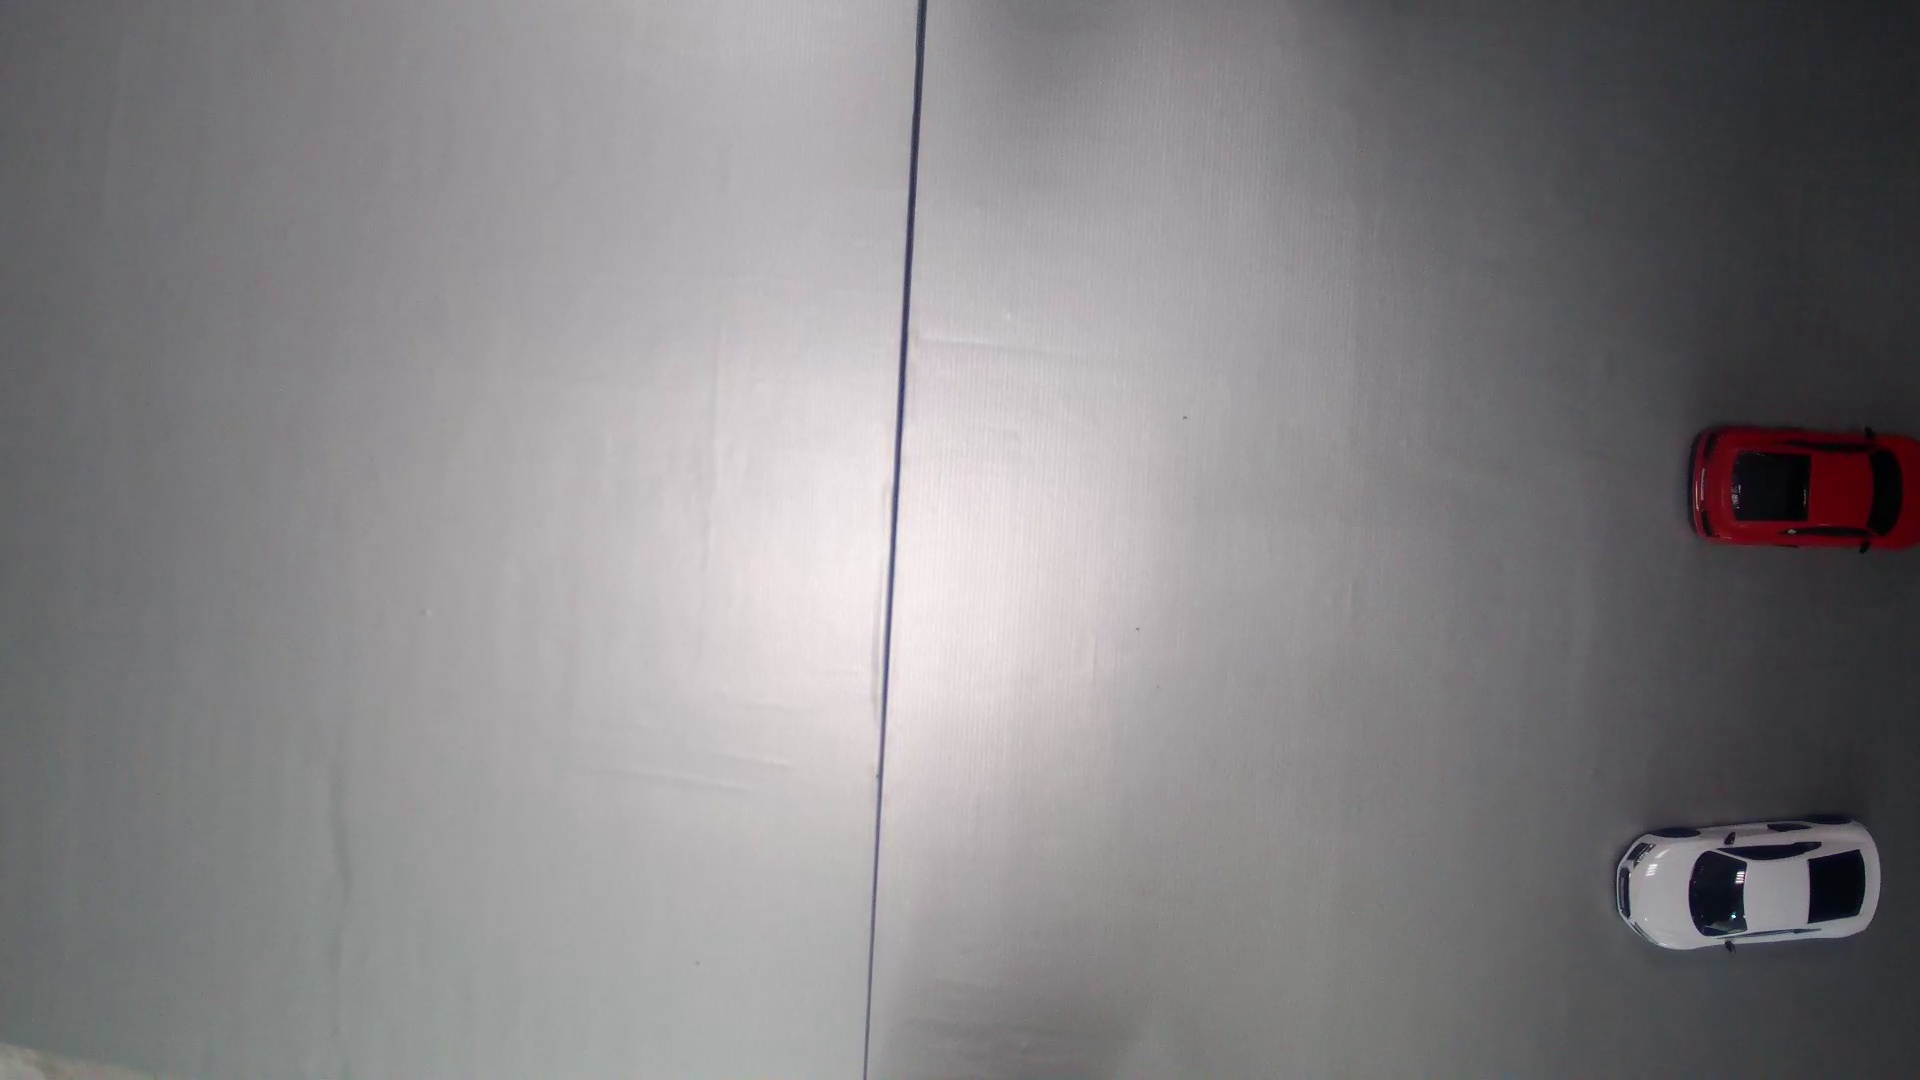remote_car: (1617, 816, 1886, 951), (1687, 423, 1920, 554)
